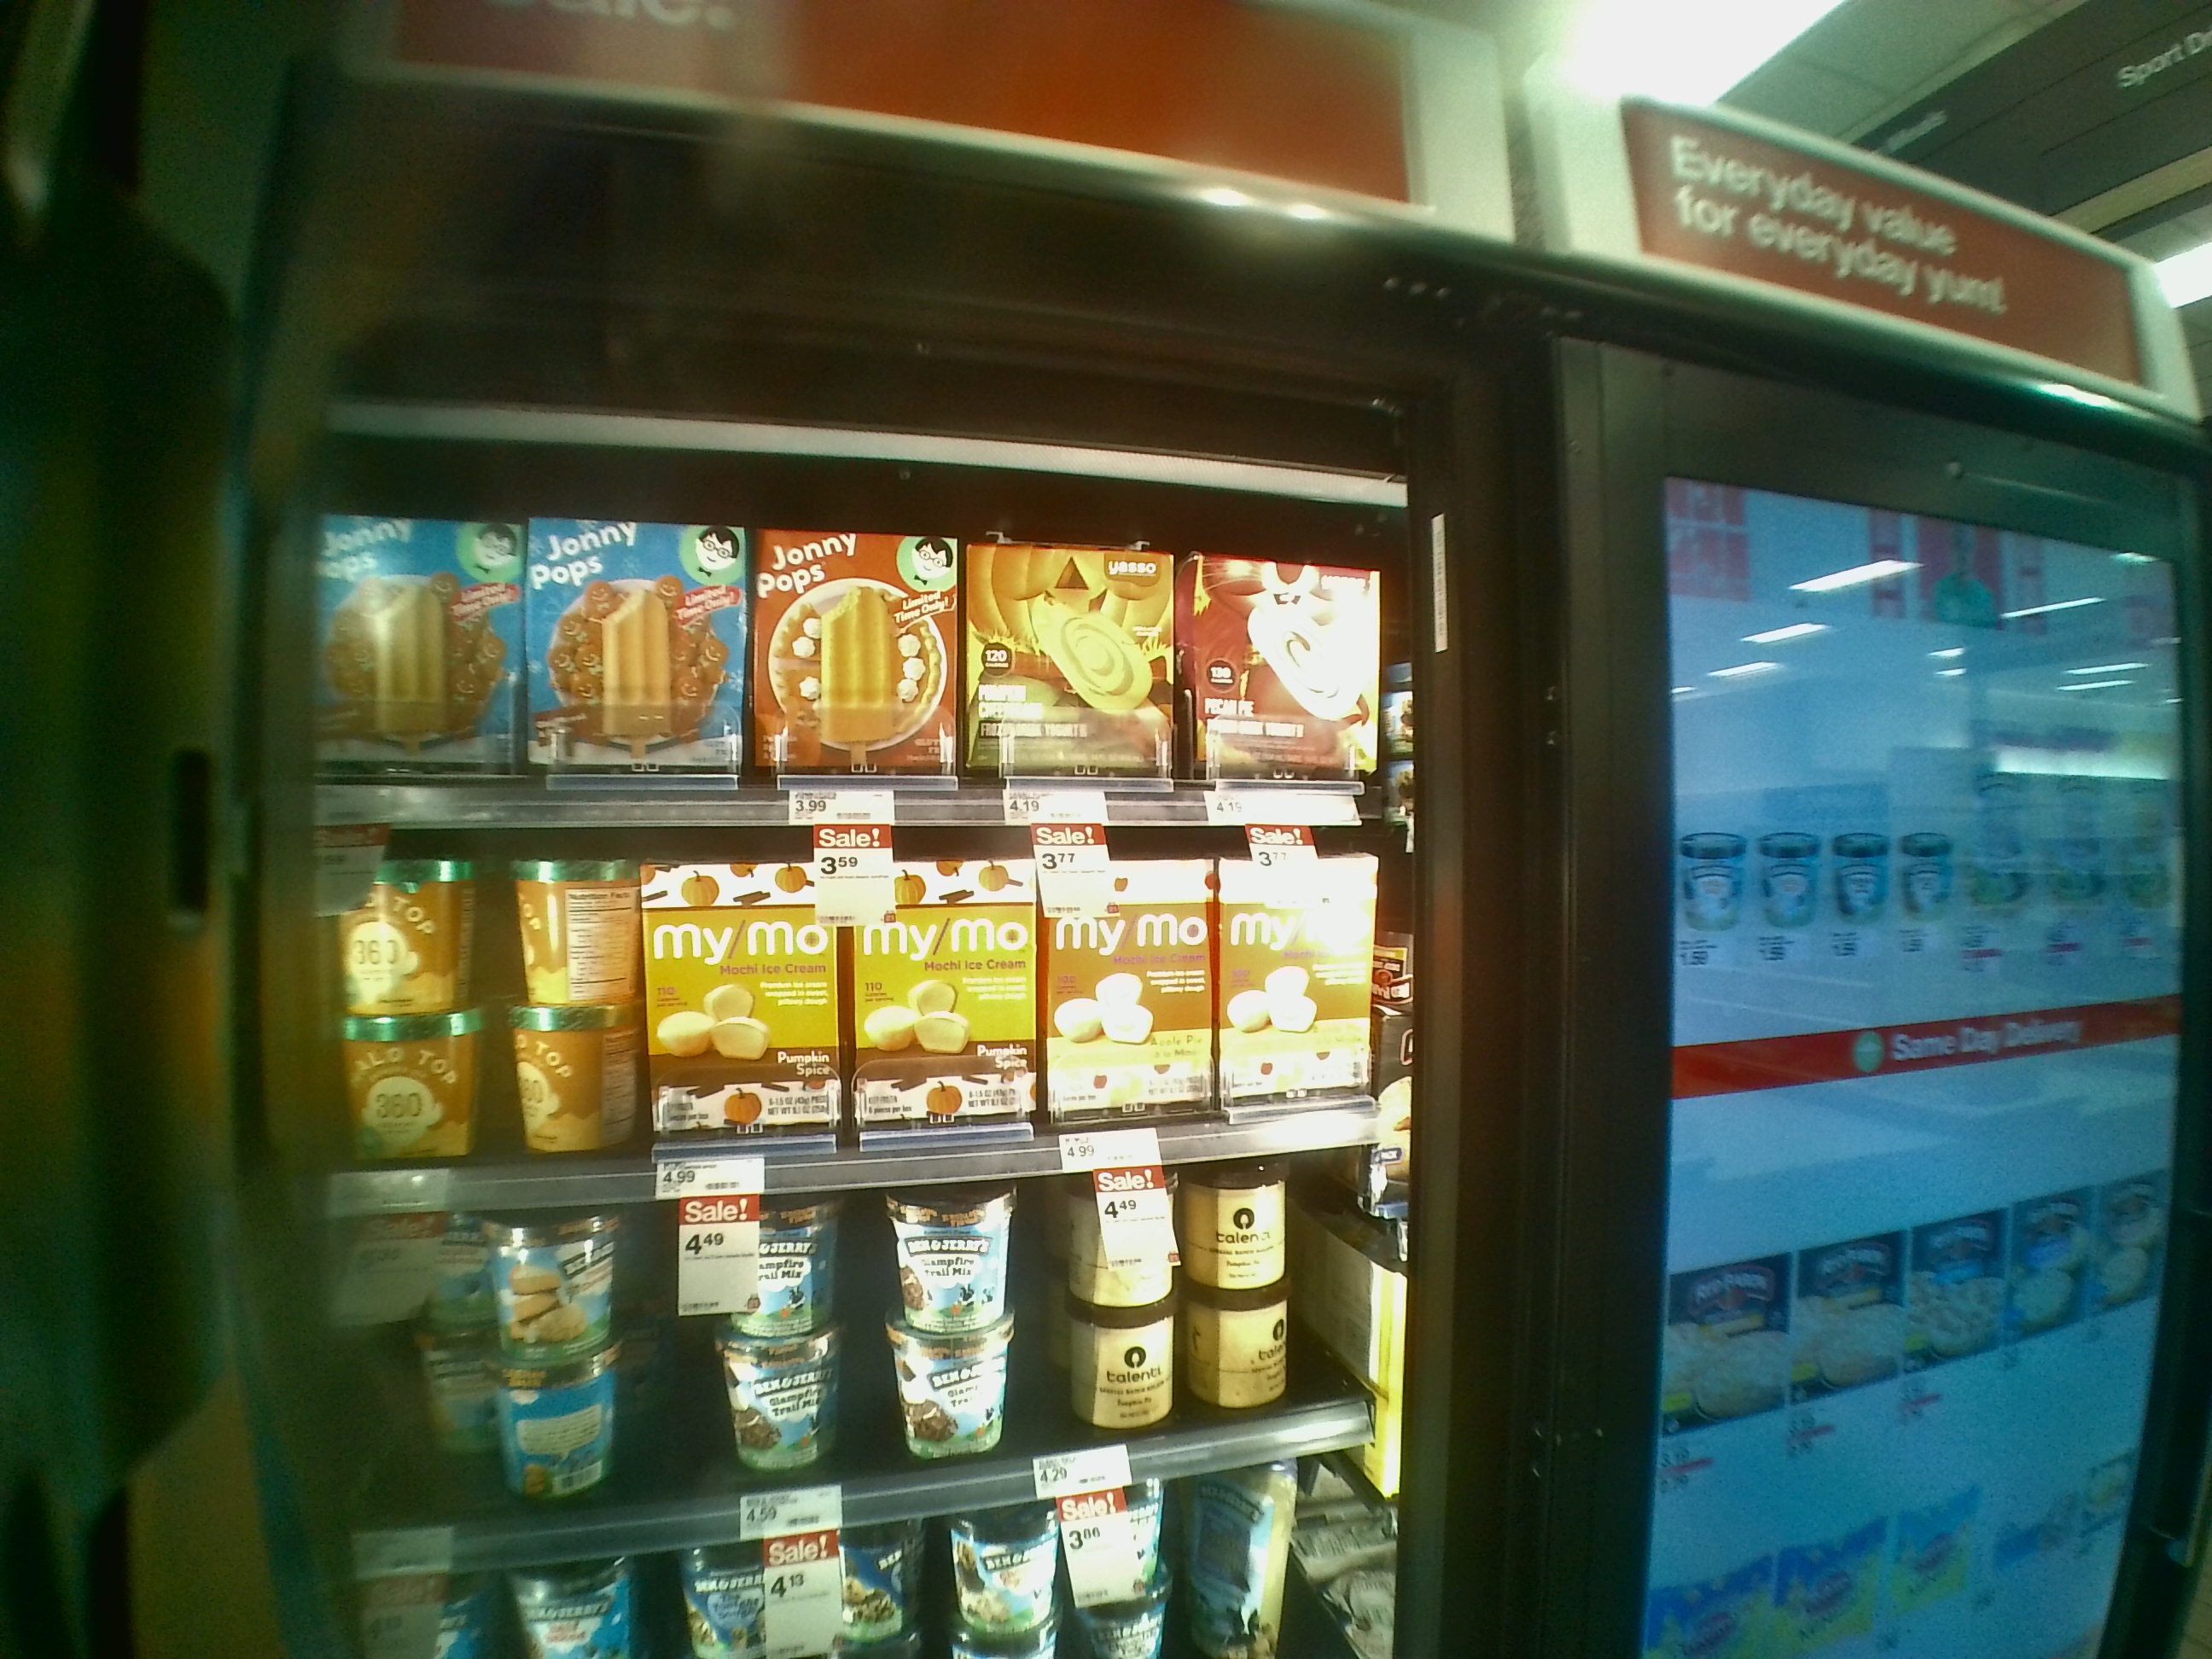shelf: (289, 809, 1395, 1166), (280, 481, 1418, 823), (294, 1166, 1399, 1474)
